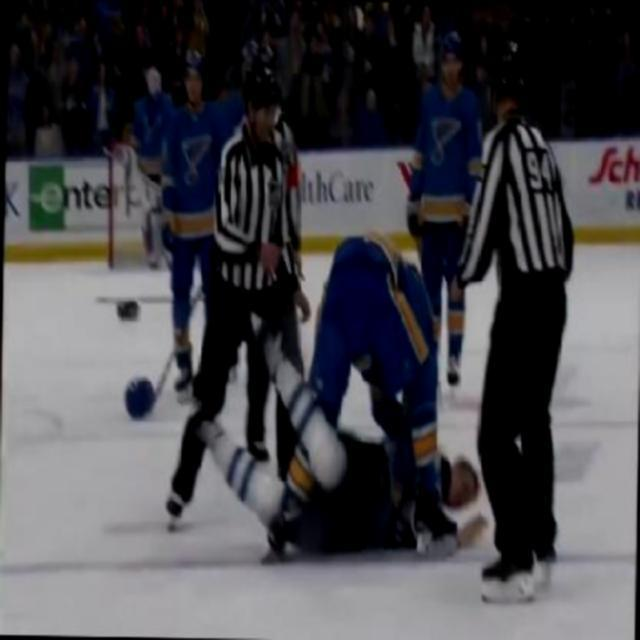fight: (284, 222, 482, 552)
non-fight: (467, 43, 581, 606), (204, 59, 298, 472), (390, 28, 484, 237)
